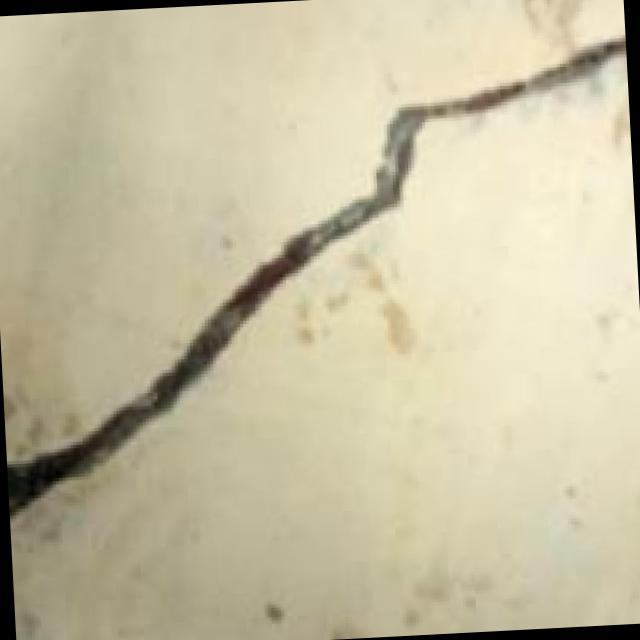crack: (0, 28, 640, 534)
